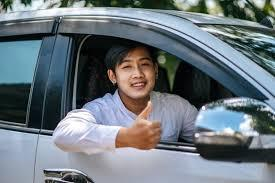Awake: (105, 37, 163, 105)
